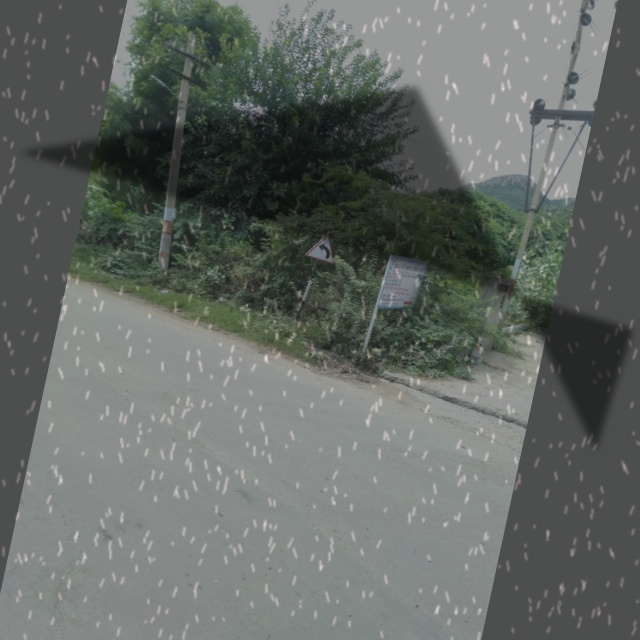Left_Hand_Curve: (304, 224, 344, 268)
